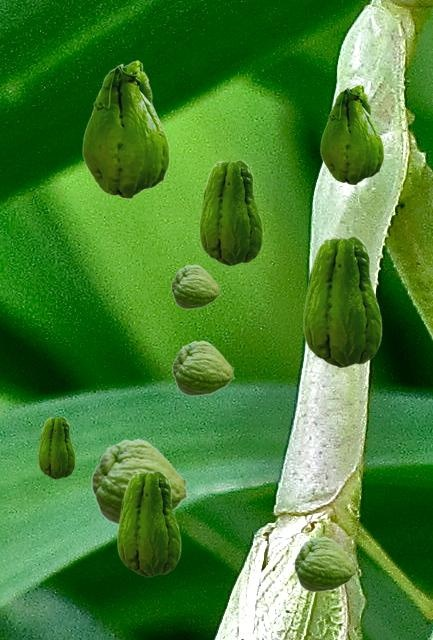sayote: (82, 60, 169, 198), (303, 235, 381, 367), (91, 438, 188, 524), (199, 159, 262, 265), (117, 470, 180, 576), (320, 84, 383, 184), (172, 340, 234, 395), (294, 536, 356, 591), (38, 416, 74, 478), (171, 264, 220, 308)
